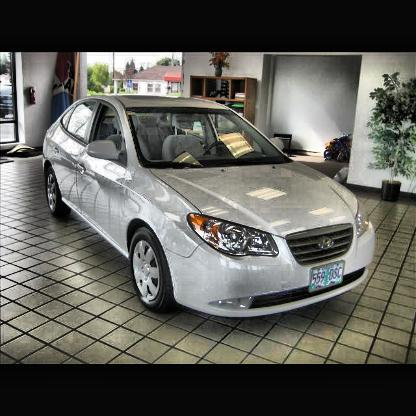Hyundai Elantra Sedan 2007: (43, 97, 378, 319)
